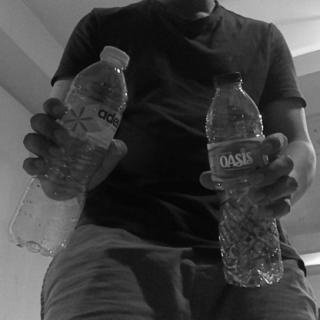plastic_bottles: (4, 45, 129, 255), (207, 70, 287, 288)
